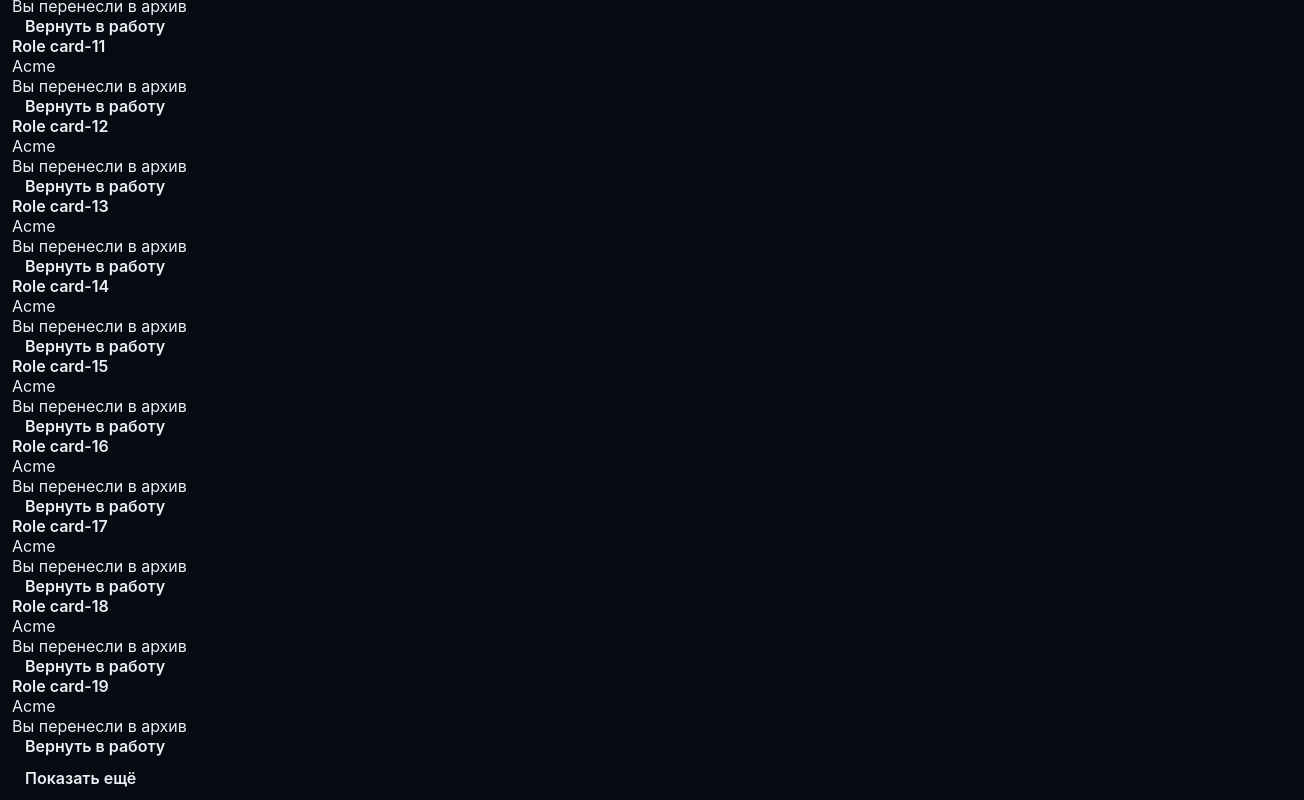
Test: ArchivedResponsesSection › renders archive pages in groups of twenty
(page scrolled)
Step 1. Click the button "Показать ещё" → (81, 778), box 12,756 -> 149,799
(page scrolled)
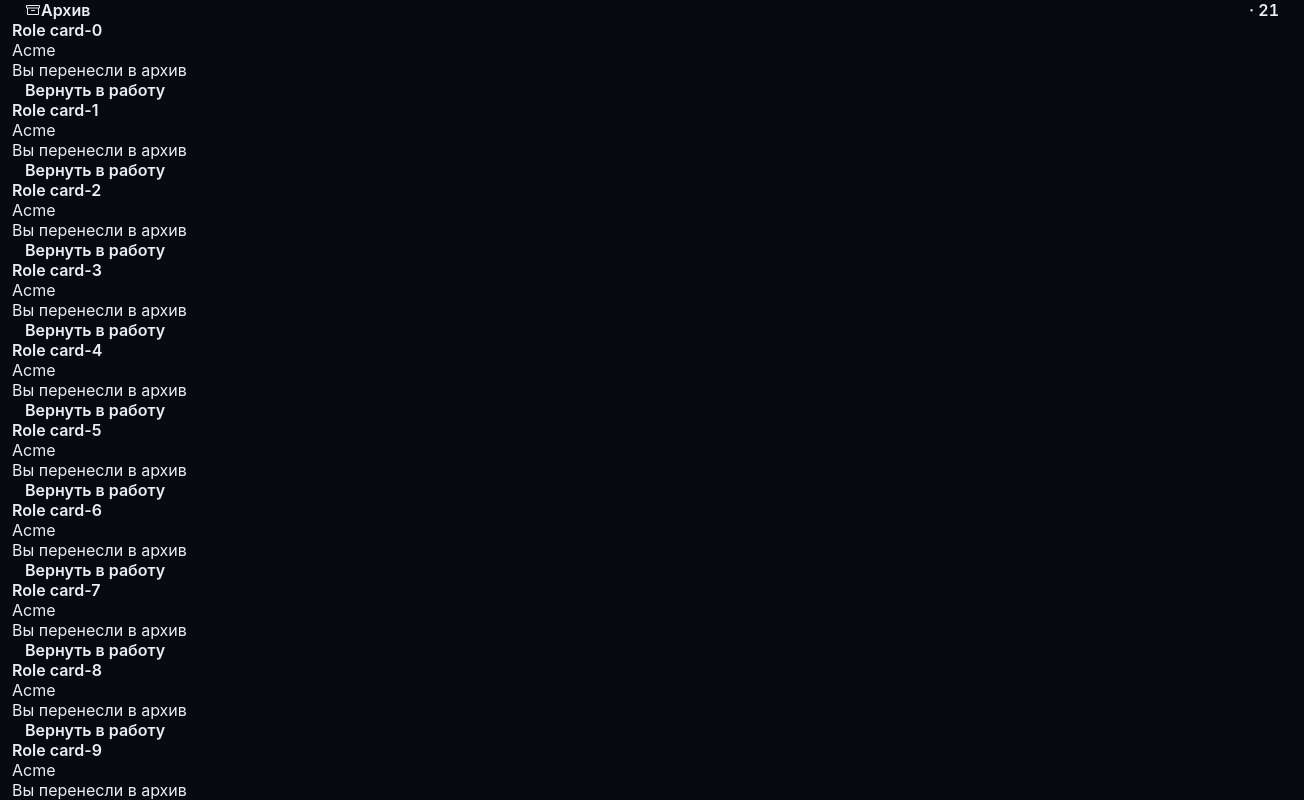
Now the number of elements with class "career-responses-archive-card" is 21
